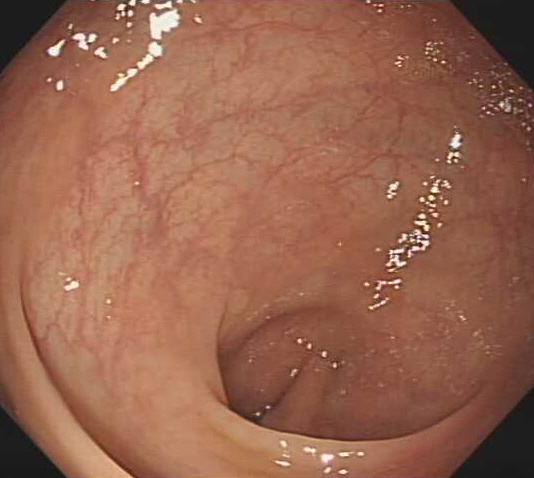others: (223, 280, 251, 321)
